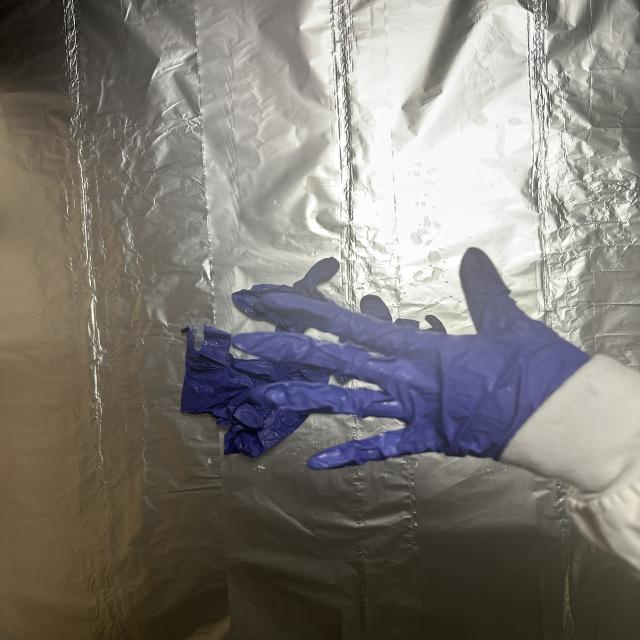gloves_contaminated: (233, 248, 589, 469)
